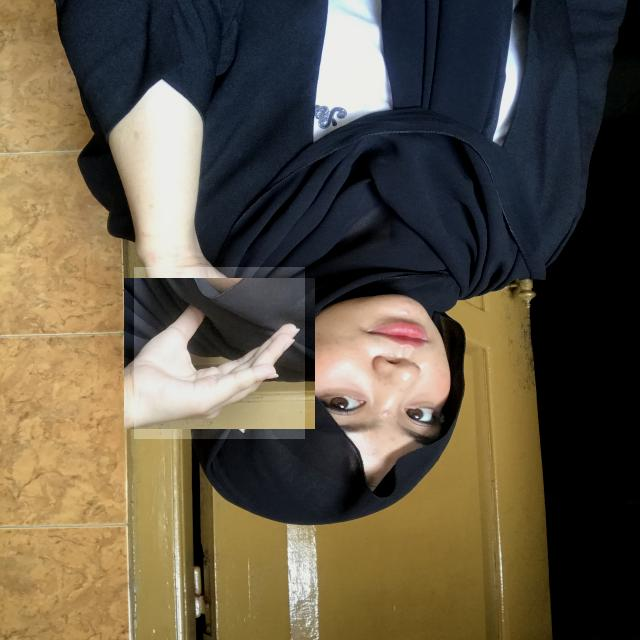mendengar: (134, 267, 305, 439)
